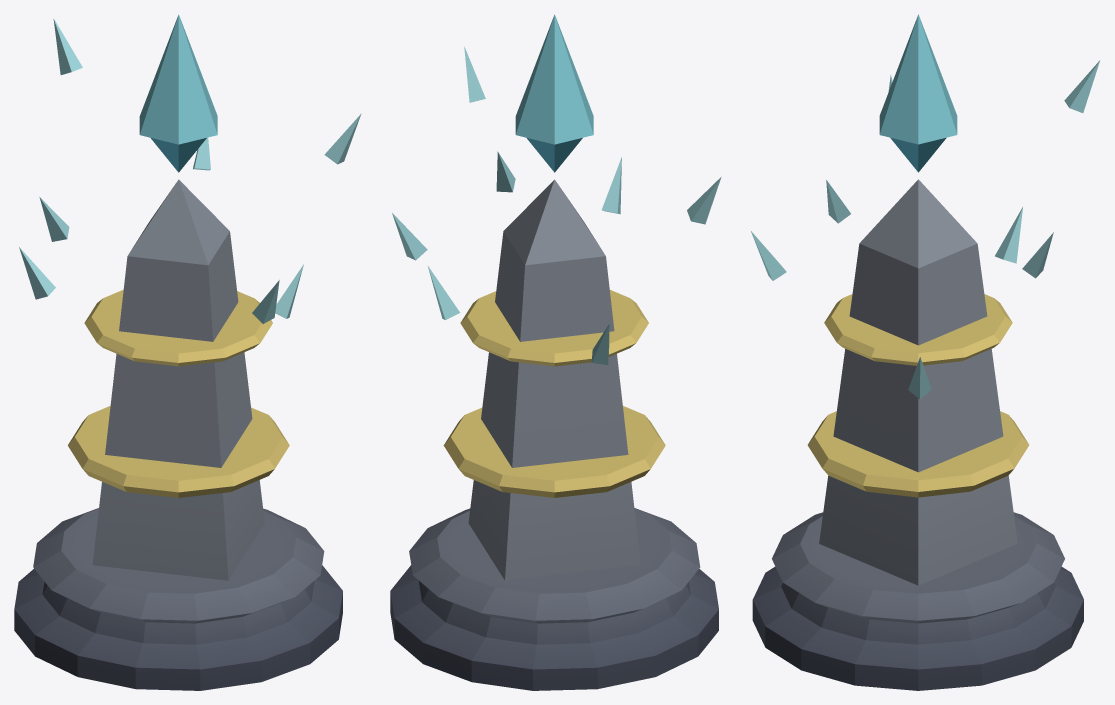
3 views of the same model, side by side, from view 1: azimuth 30°, elevation 25°; view 2: azimuth 150°, elevation 25°; view 3: azimuth 270°, elevation 25° (orthographic).
Parts seen in each view (by area): view 1: geometry_0; view 2: geometry_0; view 3: geometry_0.
Part boxes in pixels (left/top/right/bottom): geometry_0: left=14, top=14, right=361, bottom=690; geometry_0: left=390, top=14, right=721, bottom=690; geometry_0: left=751, top=14, right=1100, bottom=690.
Size of the model in its own units: 1.45 by 2.83 by 1.48.
